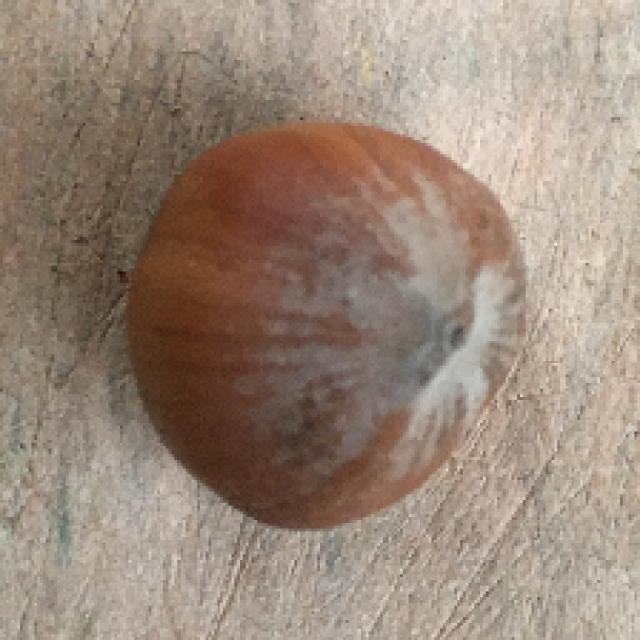qualityHazelnut: (129, 112, 531, 540)
